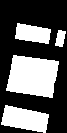parkingspot: (1, 105, 48, 132), (6, 71, 54, 97), (10, 55, 58, 80), (15, 23, 50, 43), (55, 30, 65, 46)
